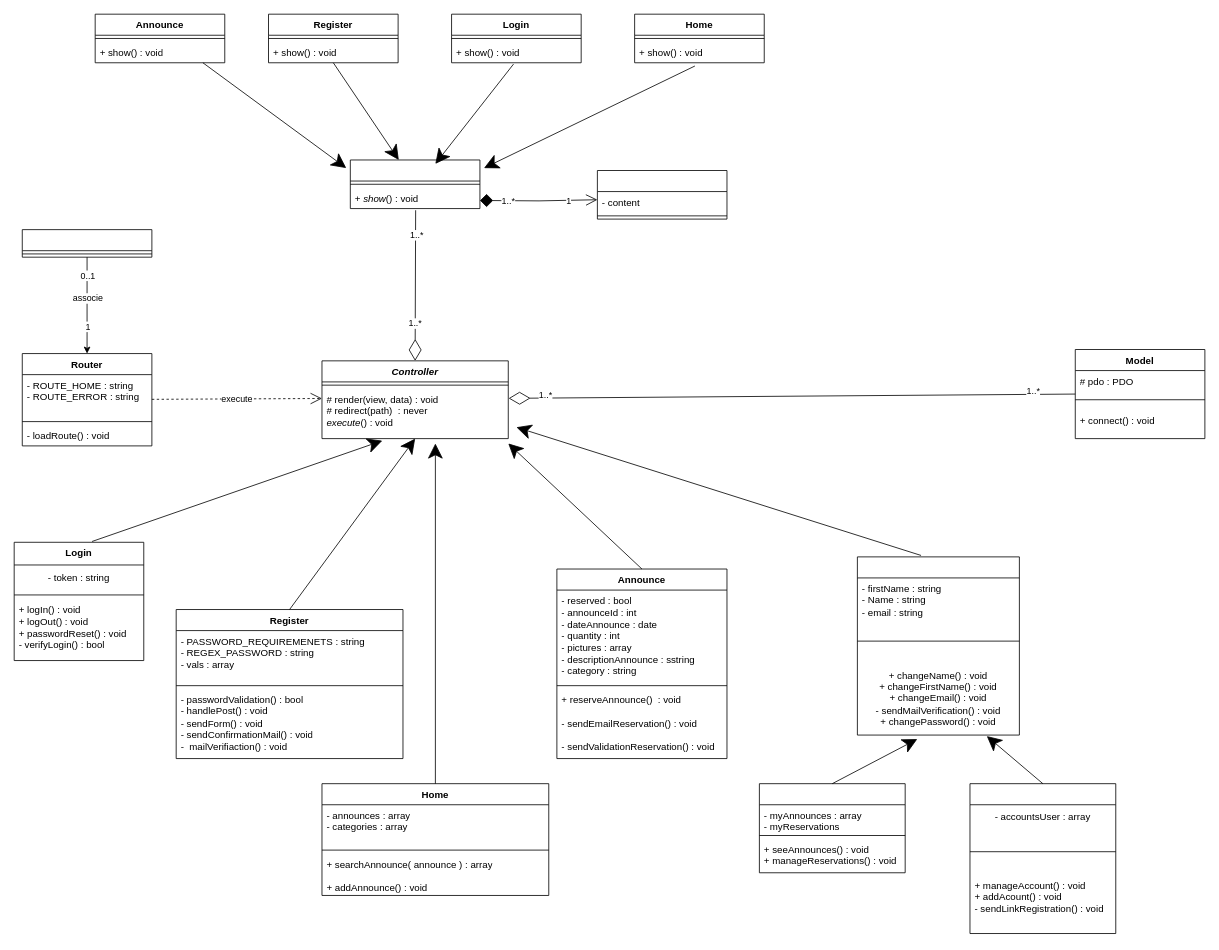
Some shapes in this 1219 by 950 pixel diagram are drawn without their labels. The shapes that lost their labels are listed below. From the top down, each one's box as (x1, y1, x2, y2) in pixels, then its label:
(350, 159, 480, 209): View
(597, 170, 727, 219): Layout
(21, 229, 152, 257): index
(857, 556, 1019, 735): AccountProfile
(759, 783, 905, 873): UserProfile
(969, 783, 1116, 934): AdminProfile
